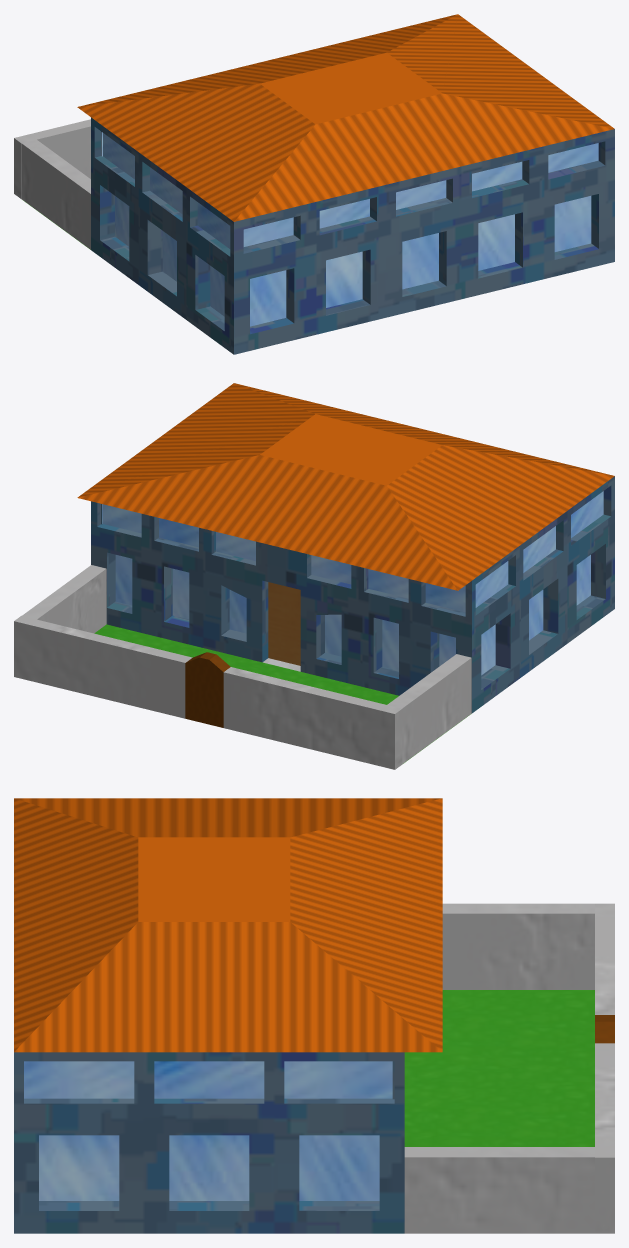
File: Predio4.fbx
3 renders of one model, top to bottom at view 1: azimuth 30°, elevation 25°; view 2: azimuth 150°, elevation 25°; view 3: azimuth 270°, elevation 25°, orthographic. The views are drawn at different scales.
Parts seen in each view (by area): view 1: Casa2; view 2: Casa2; view 3: Casa2.
Part boxes in pixels (bbox=[...]): Casa2: bbox=[14, 14, 614, 354]; Casa2: bbox=[14, 383, 614, 769]; Casa2: bbox=[14, 798, 614, 1233].
Size of the model in its own units: 1200 by 1200 by 500.
1 material, 1 textured.
